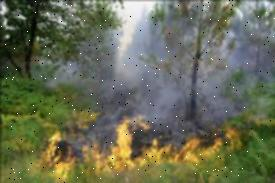fire: (42, 108, 244, 176)
